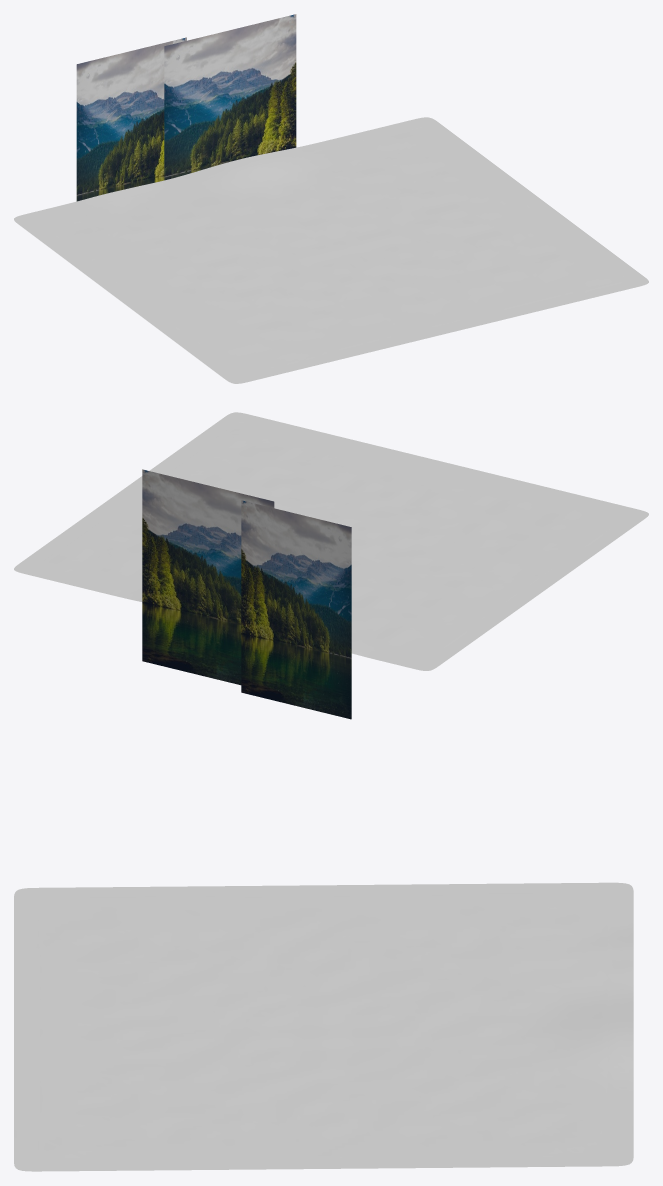
The model's file is background.glb.
3 renders of one model, top to bottom at view 1: azimuth 30°, elevation 25°; view 2: azimuth 150°, elevation 25°; view 3: azimuth 270°, elevation 25°, orthographic. The views are drawn at different scales.
Parts seen in each view (by area): view 1: Plane, pexels-cottonbro-5608200, pexels-cottonbro-5608200.001; view 2: Plane, pexels-cottonbro-5608200.001, pexels-cottonbro-5608200; view 3: Plane.
Boxes of the visible parts, box(x1,y1,x2,y2) form: Plane: box(14, 117, 648, 383); pexels-cottonbro-5608200: box(164, 14, 296, 180); pexels-cottonbro-5608200.001: box(76, 37, 186, 201); Plane: box(14, 412, 648, 670); pexels-cottonbro-5608200.001: box(241, 500, 351, 719); pexels-cottonbro-5608200: box(142, 469, 274, 685); Plane: box(14, 882, 633, 1171).
Size of the model in its own units: 79.2 by 35 by 74.91.
Materials: 2 (1 with a texture image).
